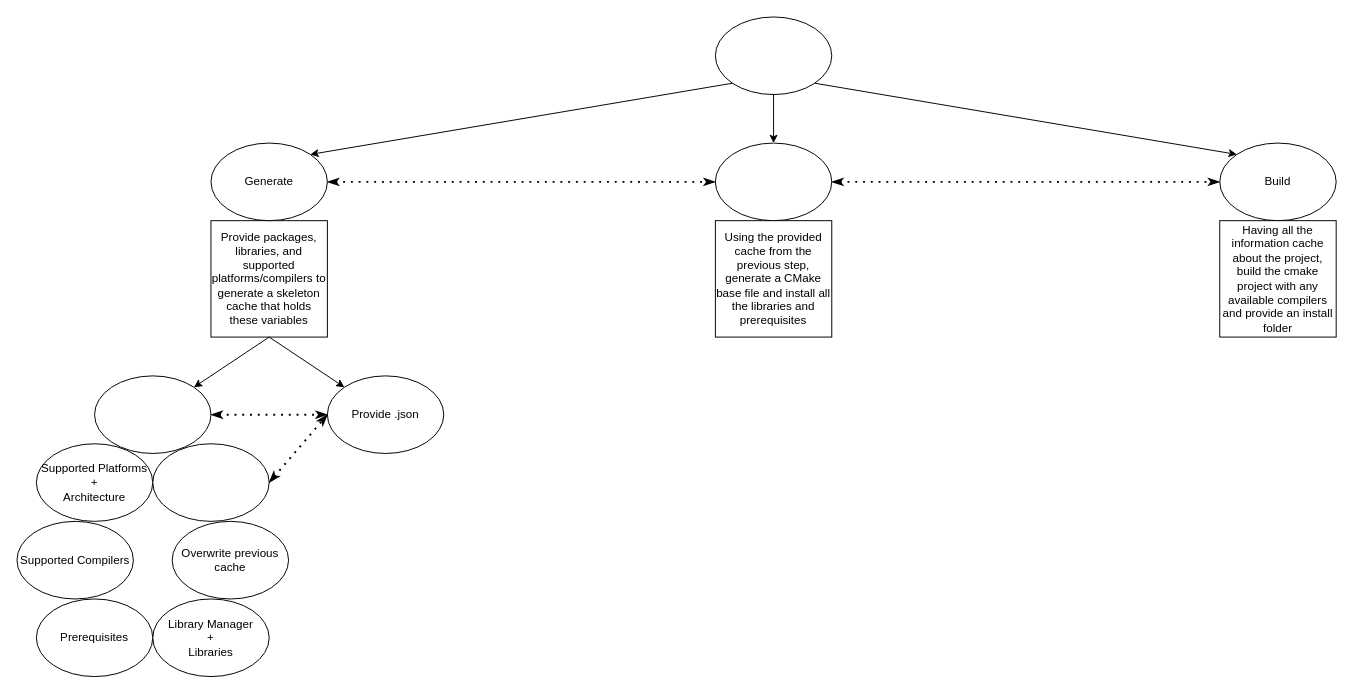
The diagram is 1353 pixels wide and 694 high, and some of its shapes have lost their labels. The centre of each missing label's shape, as x and y in pixels:
"CPM CLI" goes at [773,55].
"Generate cache" goes at [210,482].
"Setup" goes at [773,181].
"Wizard" goes at [152,414].
